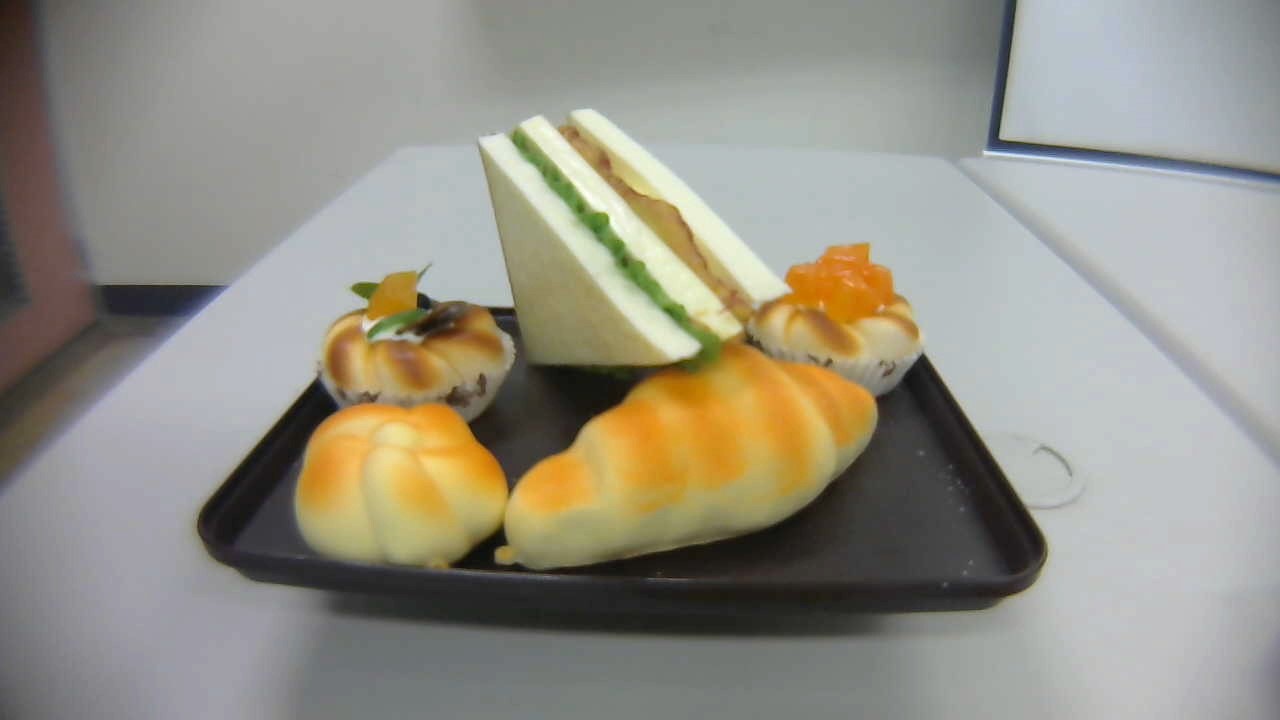croissant: (497, 342, 878, 572)
fruit tart: (316, 263, 516, 425)
mango tart: (747, 241, 925, 401)
sandwich: (478, 105, 801, 366)
twist bread: (295, 403, 508, 572)
